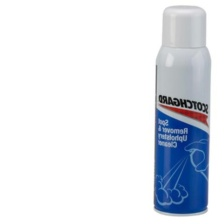aerosol_cans: (148, 2, 217, 218)
